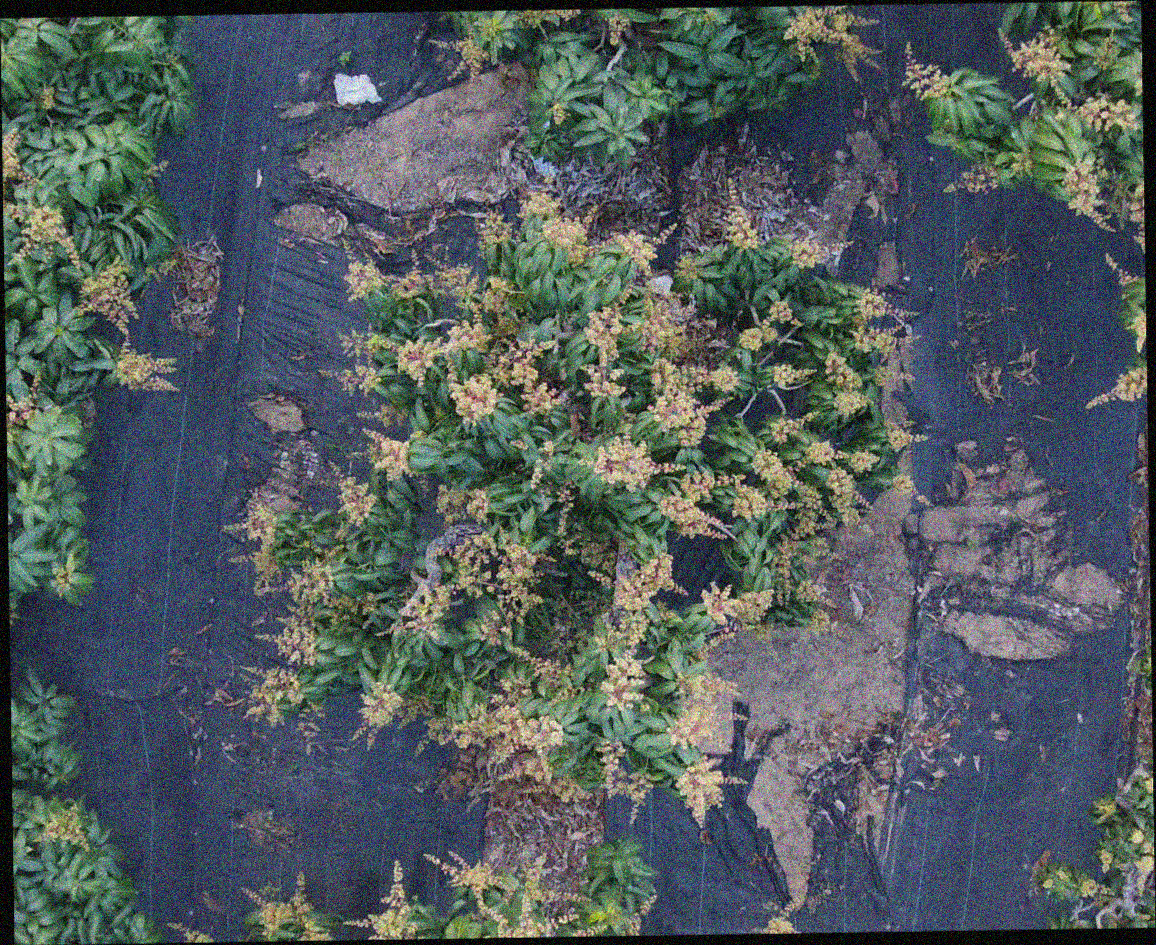flowers: (580, 283, 734, 448), (723, 441, 878, 601), (389, 523, 564, 644), (397, 323, 559, 424), (269, 547, 375, 666), (2, 129, 79, 268), (429, 681, 563, 759), (443, 858, 556, 937), (783, 4, 880, 79), (242, 872, 339, 940), (520, 190, 595, 266), (345, 860, 417, 939), (584, 434, 682, 490), (667, 671, 735, 748), (658, 470, 733, 539), (432, 253, 515, 315), (351, 681, 428, 747), (599, 612, 649, 710), (675, 755, 744, 826), (224, 503, 280, 588), (612, 546, 685, 611), (851, 287, 917, 357), (77, 260, 137, 336), (599, 739, 653, 822), (423, 851, 515, 897), (515, 648, 587, 704), (1000, 28, 1070, 83), (344, 259, 430, 300), (245, 666, 303, 726), (609, 223, 674, 276), (1063, 158, 1110, 230), (701, 583, 773, 630), (737, 300, 802, 351), (115, 341, 177, 390), (561, 524, 618, 576), (902, 41, 951, 99), (825, 351, 868, 415), (429, 36, 489, 81), (1071, 92, 1138, 131), (802, 440, 879, 472), (39, 802, 89, 851), (364, 428, 412, 479), (6, 373, 40, 441), (726, 177, 758, 248), (2, 129, 34, 198), (435, 484, 489, 523), (338, 475, 376, 526), (317, 365, 380, 394), (790, 237, 850, 267), (478, 210, 512, 253), (770, 411, 815, 443), (621, 894, 656, 935), (884, 418, 928, 450), (1111, 366, 1147, 401), (959, 162, 999, 193), (529, 440, 554, 488), (1104, 252, 1139, 285), (518, 9, 581, 27), (357, 403, 405, 426), (1130, 828, 1154, 873), (1129, 180, 1144, 251), (771, 363, 813, 388), (167, 921, 213, 942), (1093, 33, 1119, 70), (926, 122, 962, 148), (1098, 0, 1137, 23), (607, 10, 630, 45), (145, 257, 178, 281), (1091, 794, 1117, 823), (796, 579, 827, 603), (1128, 311, 1146, 351), (674, 253, 699, 280), (1009, 148, 1033, 176), (1080, 877, 1110, 897), (892, 472, 916, 495), (808, 609, 830, 632), (1096, 847, 1115, 873), (478, 15, 501, 36), (872, 364, 893, 386), (38, 85, 55, 109), (551, 101, 566, 124), (431, 404, 448, 424), (335, 523, 349, 541), (1134, 68, 1142, 95), (510, 438, 527, 450), (409, 429, 427, 440), (1145, 776, 1153, 794), (442, 10, 454, 19)
